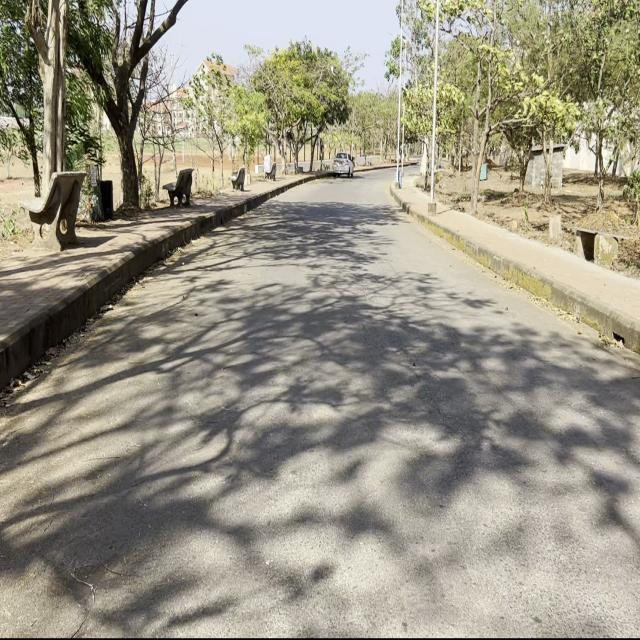Object: (329, 143, 357, 186)
Road: (3, 171, 635, 629)
